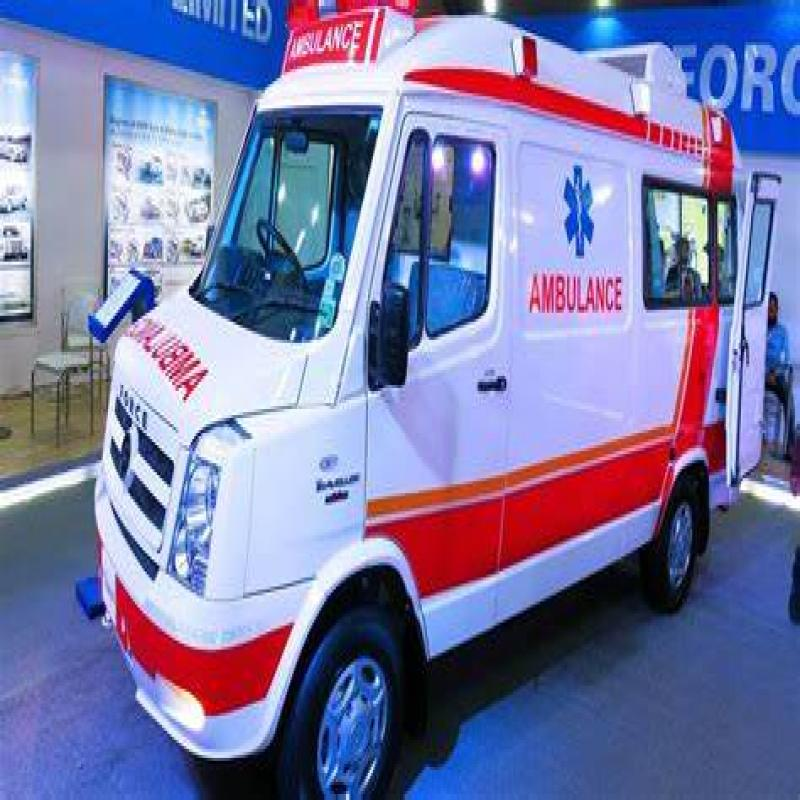AmbulanceSiren: (281, 0, 426, 96)
